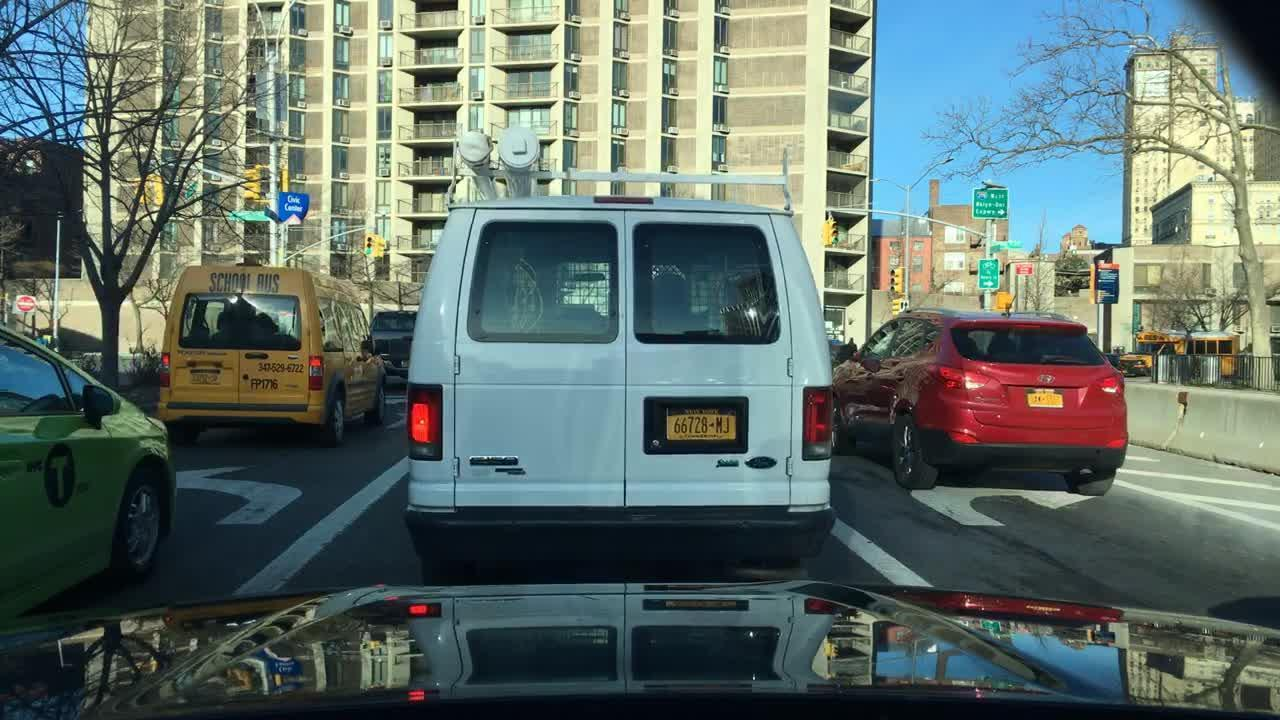Hyundai: (1034, 370, 1058, 389)
ford: (741, 453, 783, 478)
